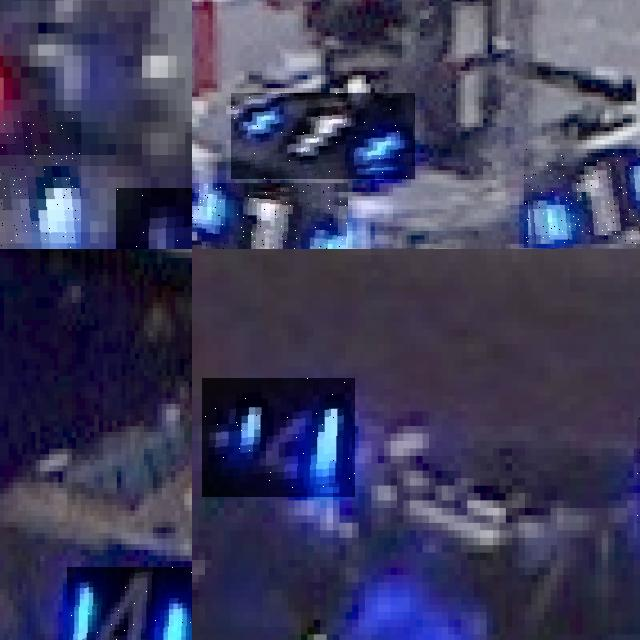B1: (231, 93, 415, 179), (524, 149, 640, 244), (192, 183, 348, 249)
B2: (202, 378, 355, 497)
B4: (0, 110, 81, 249), (67, 566, 192, 640), (116, 188, 192, 249)
